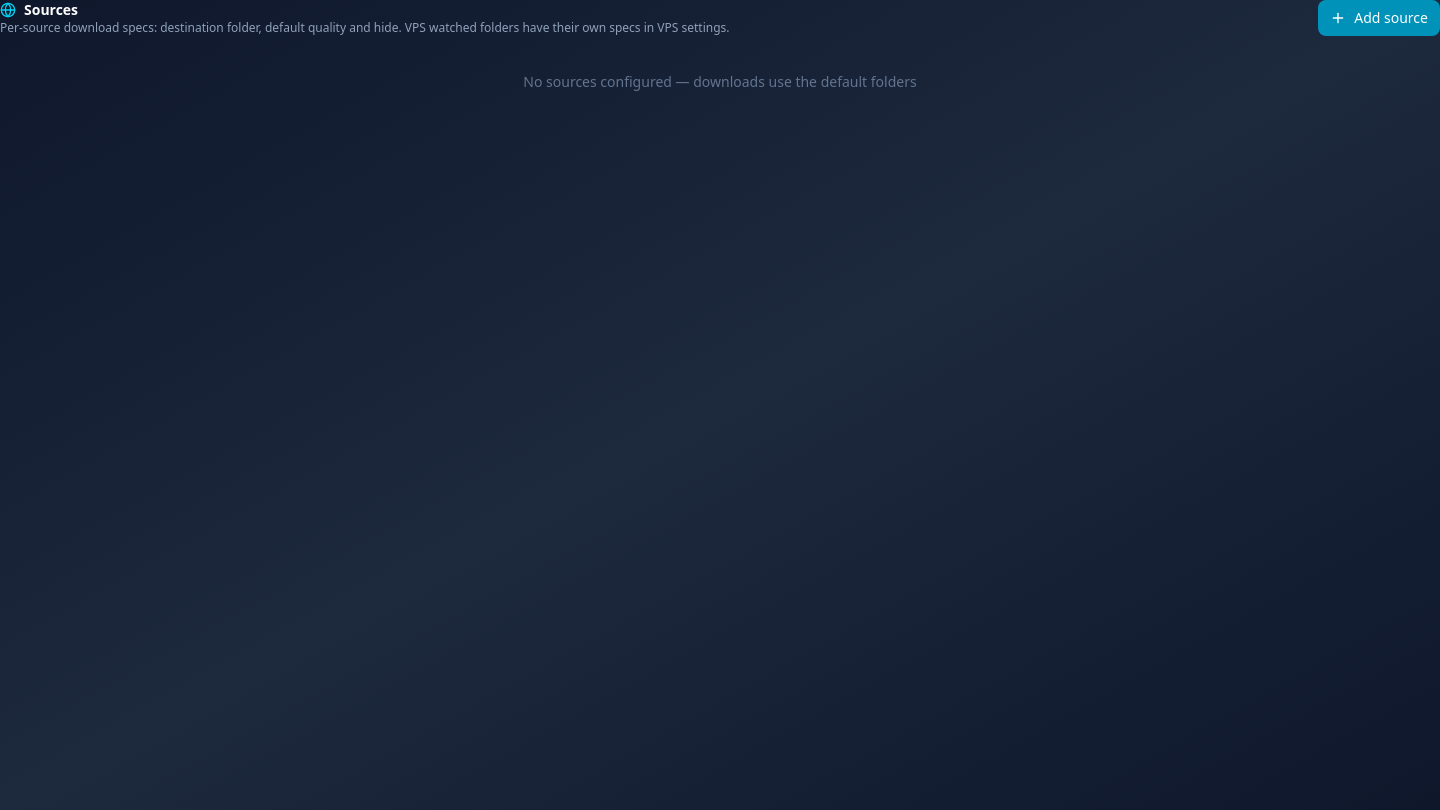
Scenario: SourcesSettings - add › adds a source lowercased, blanks as null, and tells the parent
This screenshot has width=1440, height=810.
Later steps or results of the test are not shown.
Expected: the text "No sources configured — downloads use the default folders" is shown, [523,72,917,91]
Expected: the field with placeholder "Source (e.g." is not shown
Click the button "Add source".
click(1379, 18)  # box [1318,0,1439,36]
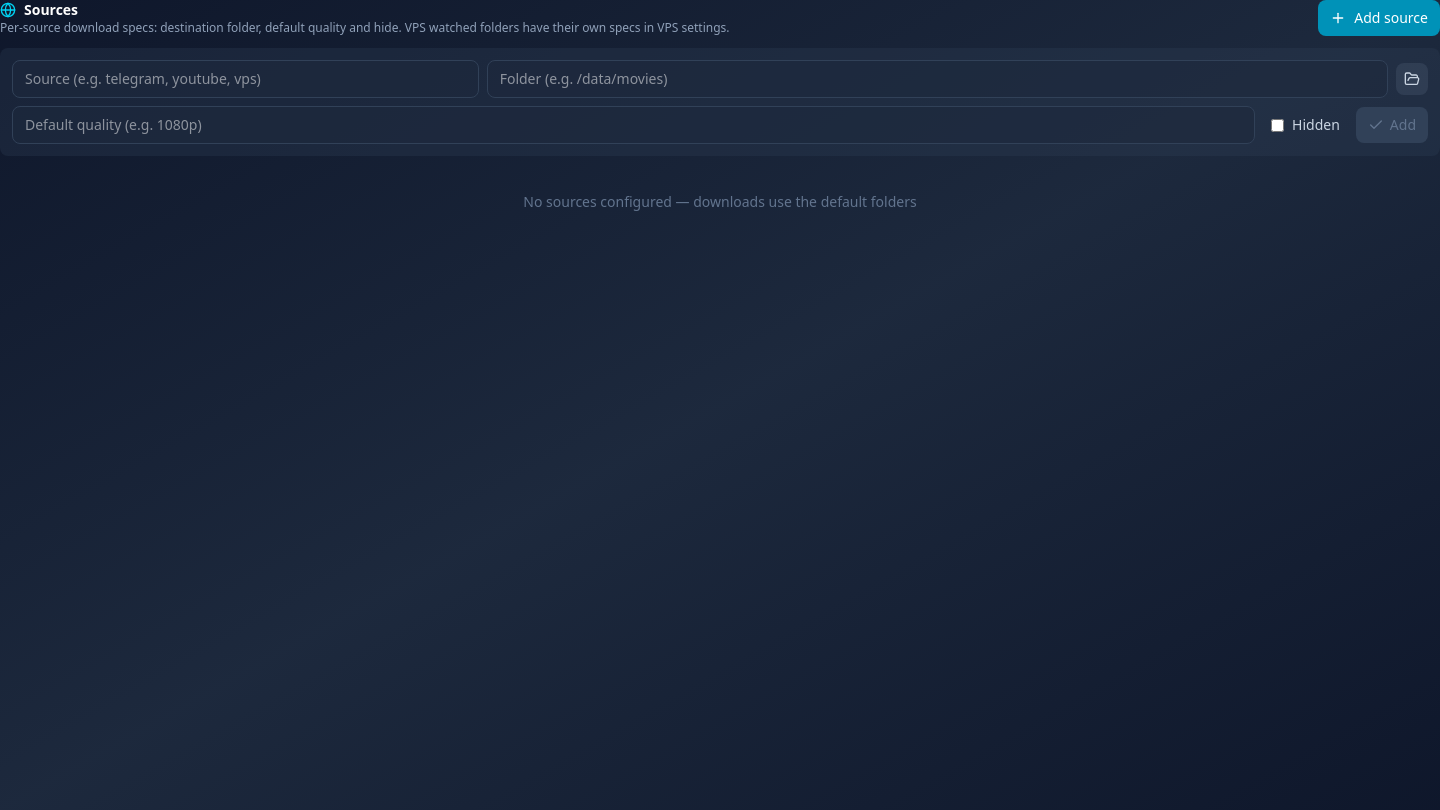
Expected: the button "Add" is disabled, [1356,107,1428,143]
Type " Vimeo.COM " into the field with placeholder "Source (e.g. telegram, youtube, vps)".
click(245, 79); type(" Vimeo.COM ")  # box [12,60,479,98]
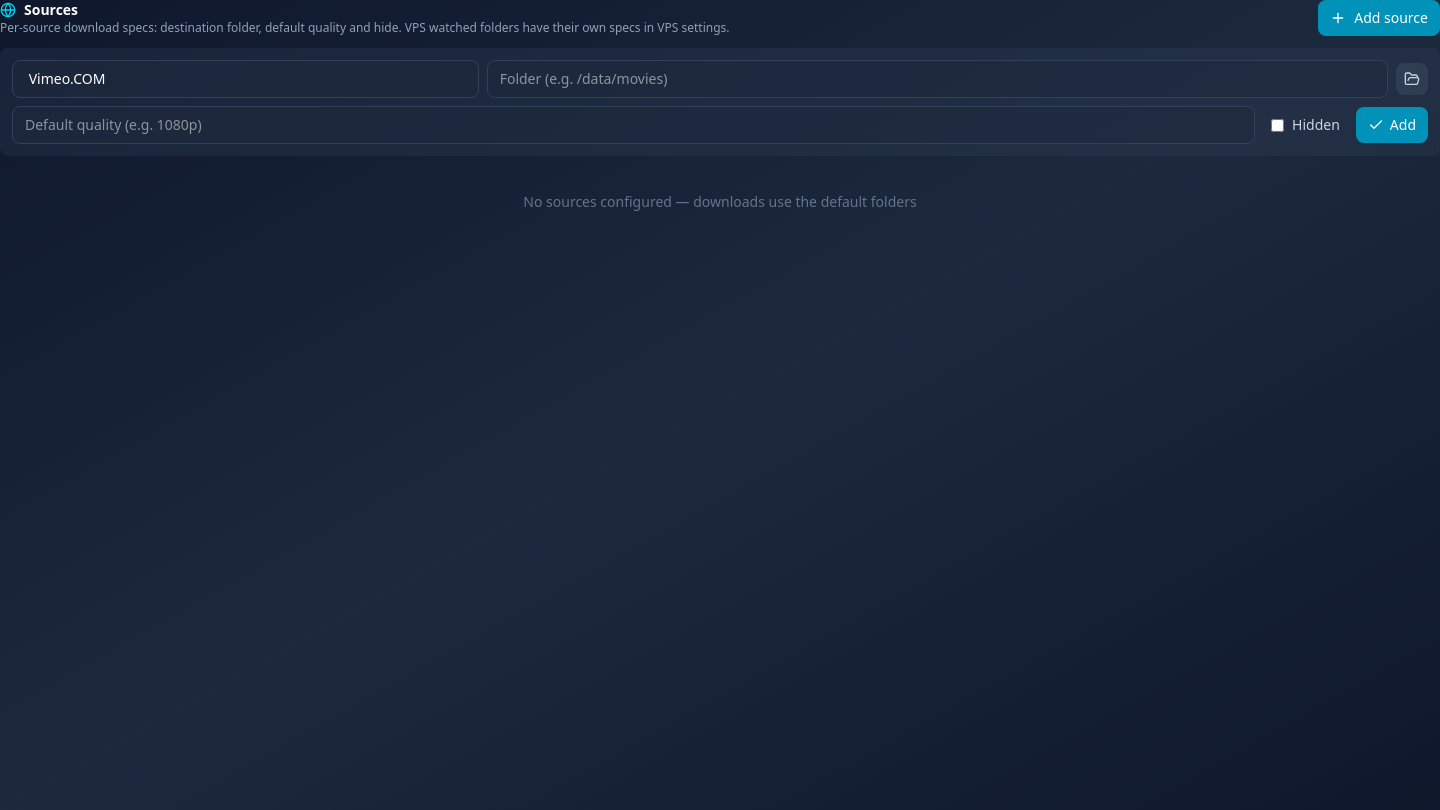
Expected: the button "Add" is enabled, [1356,107,1428,143]
